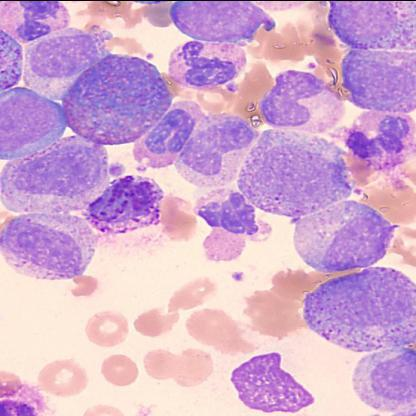Promyelocyte: (302, 265, 415, 355), (0, 138, 118, 216), (0, 212, 98, 283)
